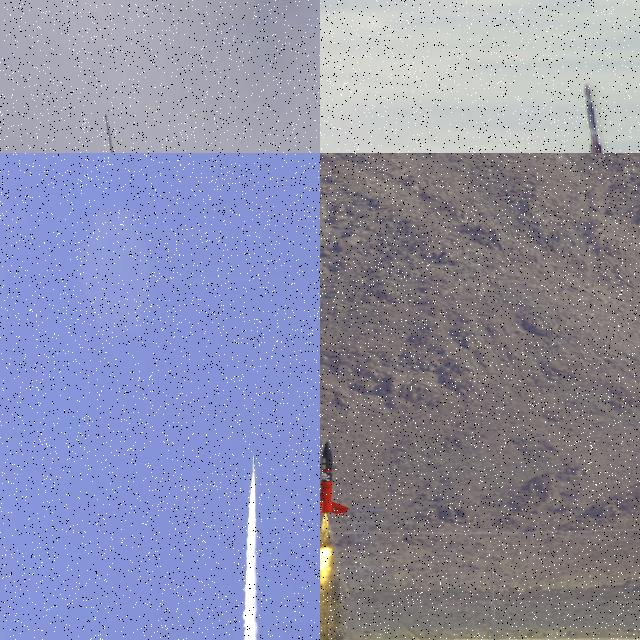Rocket: (320, 440, 351, 516), (584, 83, 607, 153), (105, 114, 119, 153), (252, 453, 256, 473)
